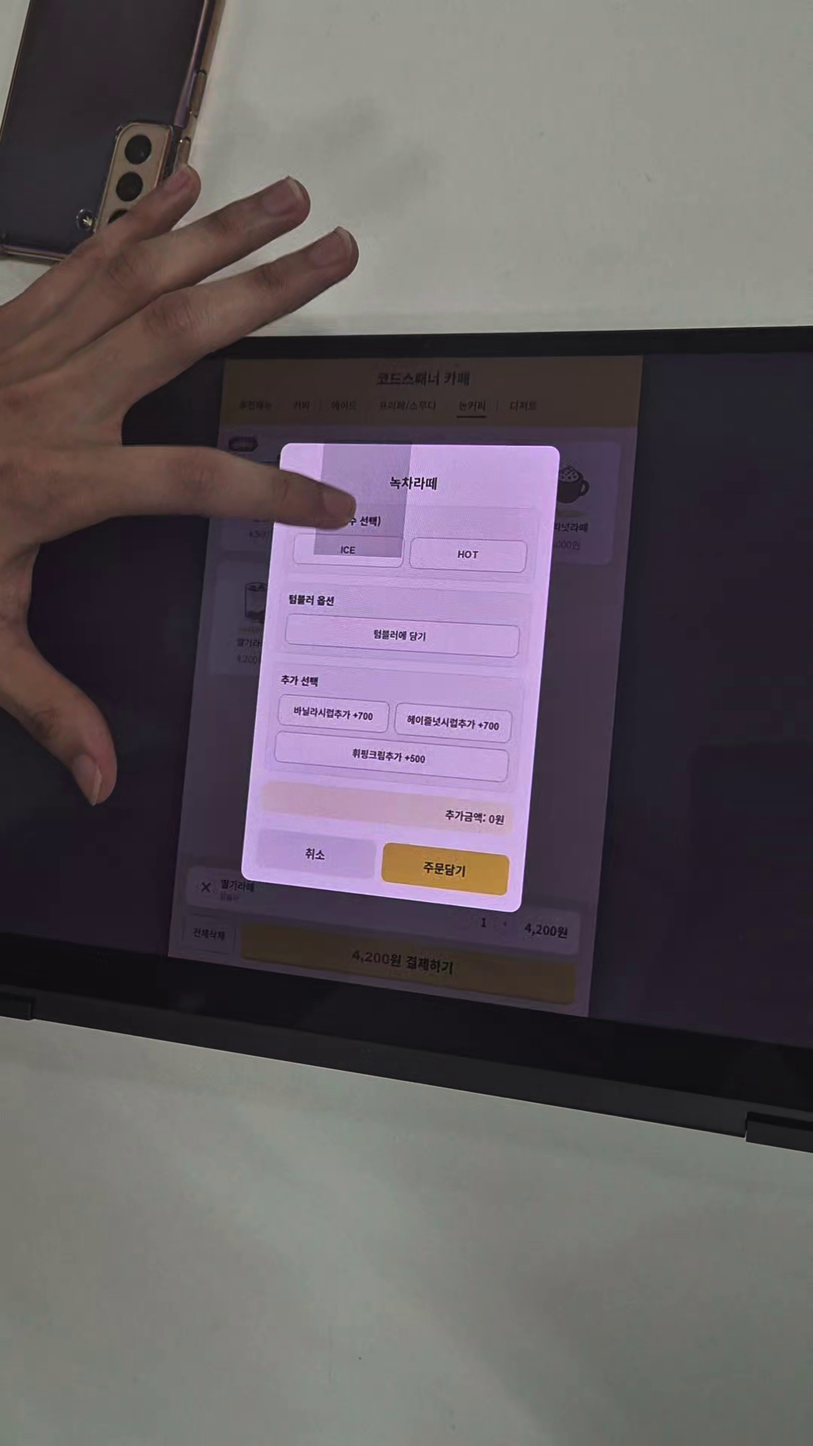action_button: (240, 920, 581, 1005), (382, 843, 511, 895), (254, 828, 375, 878), (179, 915, 234, 956)
category_tab: (377, 399, 436, 412), (238, 399, 274, 413), (454, 399, 487, 412), (507, 400, 538, 411), (329, 400, 358, 411), (292, 399, 312, 413)
menu_back: (514, 439, 621, 565), (209, 562, 307, 679)
menu_name: (388, 477, 438, 492), (542, 522, 590, 535), (235, 637, 271, 653)
menu_price: (545, 540, 581, 552), (234, 653, 264, 665)
option_button: (273, 731, 509, 782), (283, 615, 519, 656), (394, 702, 512, 744), (277, 694, 389, 733), (410, 536, 528, 573), (293, 532, 406, 569)
popup_modal: (239, 444, 560, 914)
